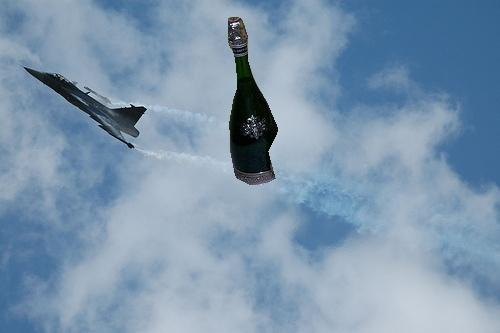tampered: (229, 18, 278, 185)
